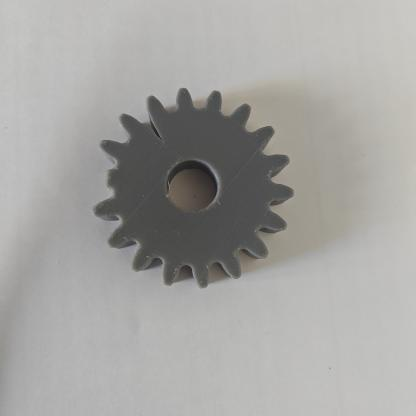defect: (110, 95, 182, 156), (79, 152, 133, 208)
gear: (66, 73, 304, 308)
